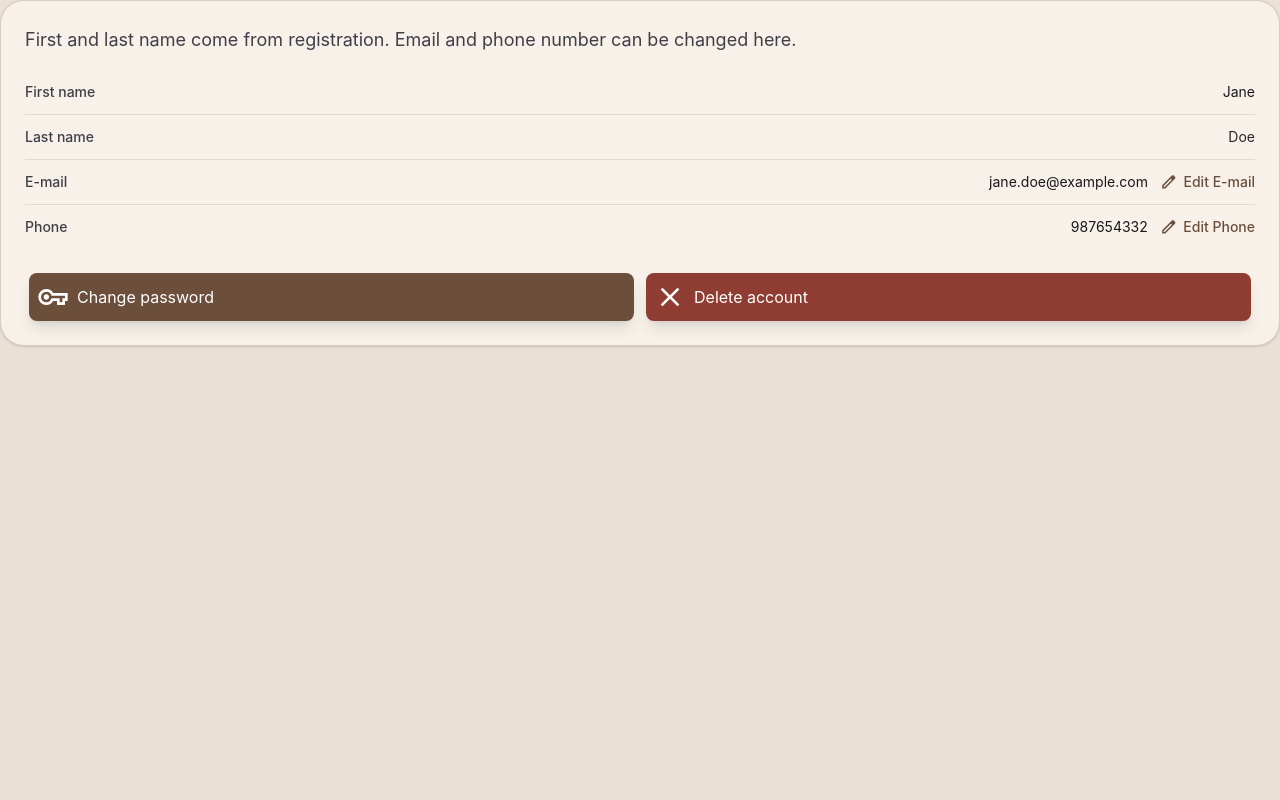
Test: Profile form › patches the phone number and confirms without signing out
The image size is (1280, 800).
Expected: the text "Jane" is shown, top-left (1223, 83), bottom-right (1255, 100)
Click the button "Edit Phone": (1207, 227) top-left (1160, 217), bottom-right (1255, 237)
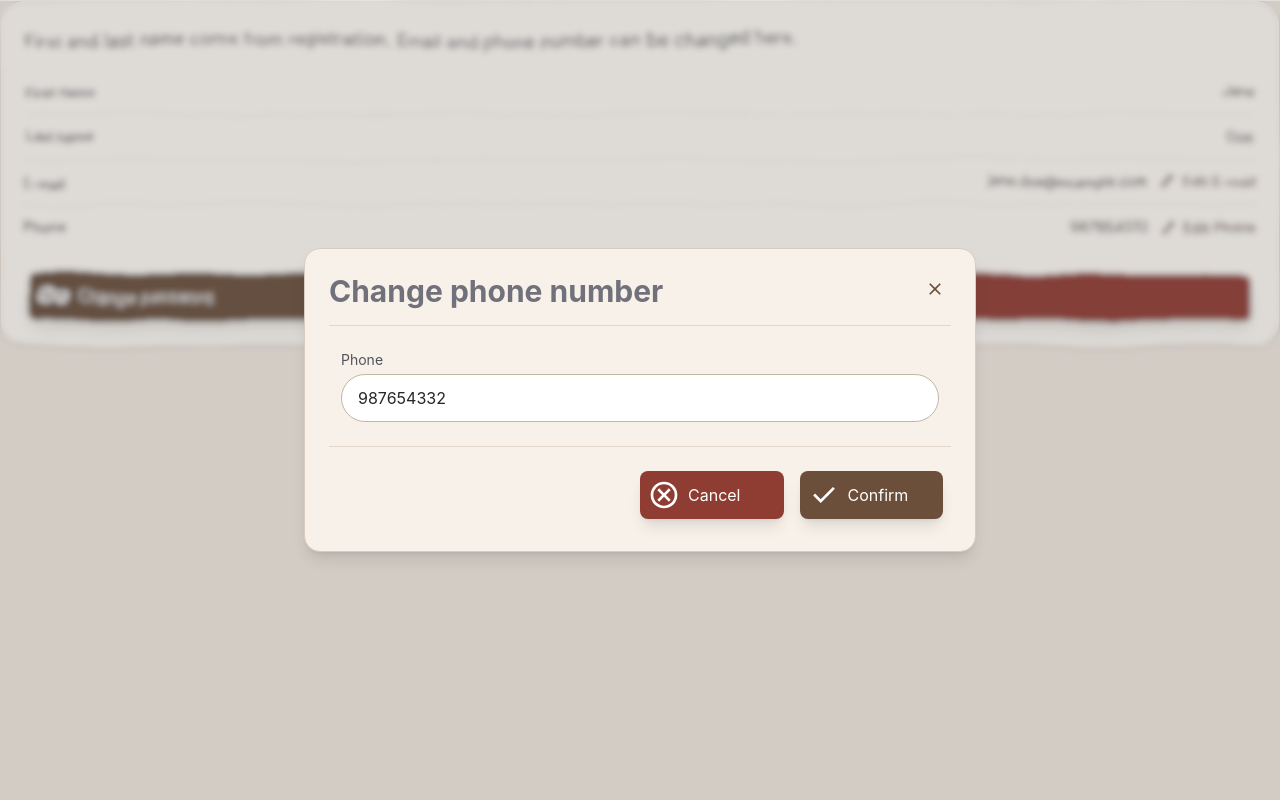
Replace the text in the field labelled "Phone" with "123456789": (640, 398) top-left (358, 386), bottom-right (922, 410)
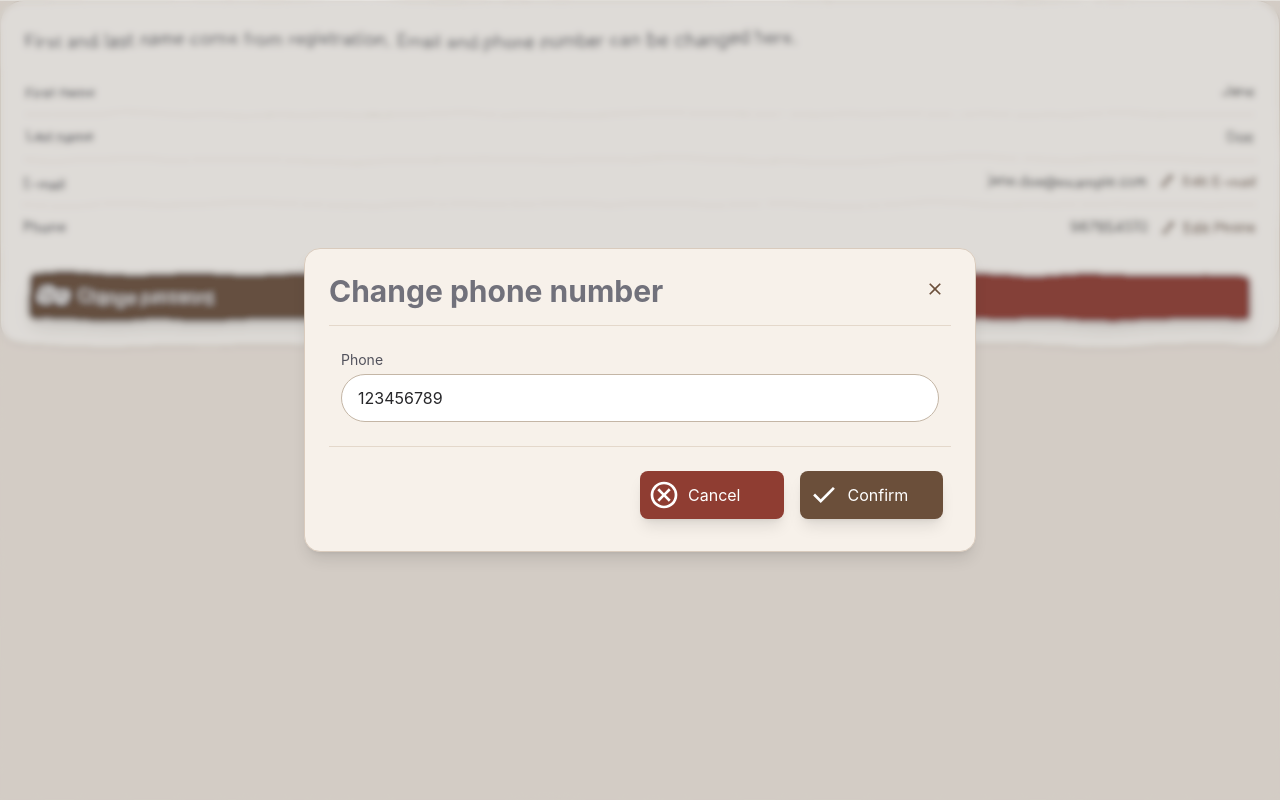
Click the button "Confirm": (871, 495) top-left (800, 471), bottom-right (943, 519)
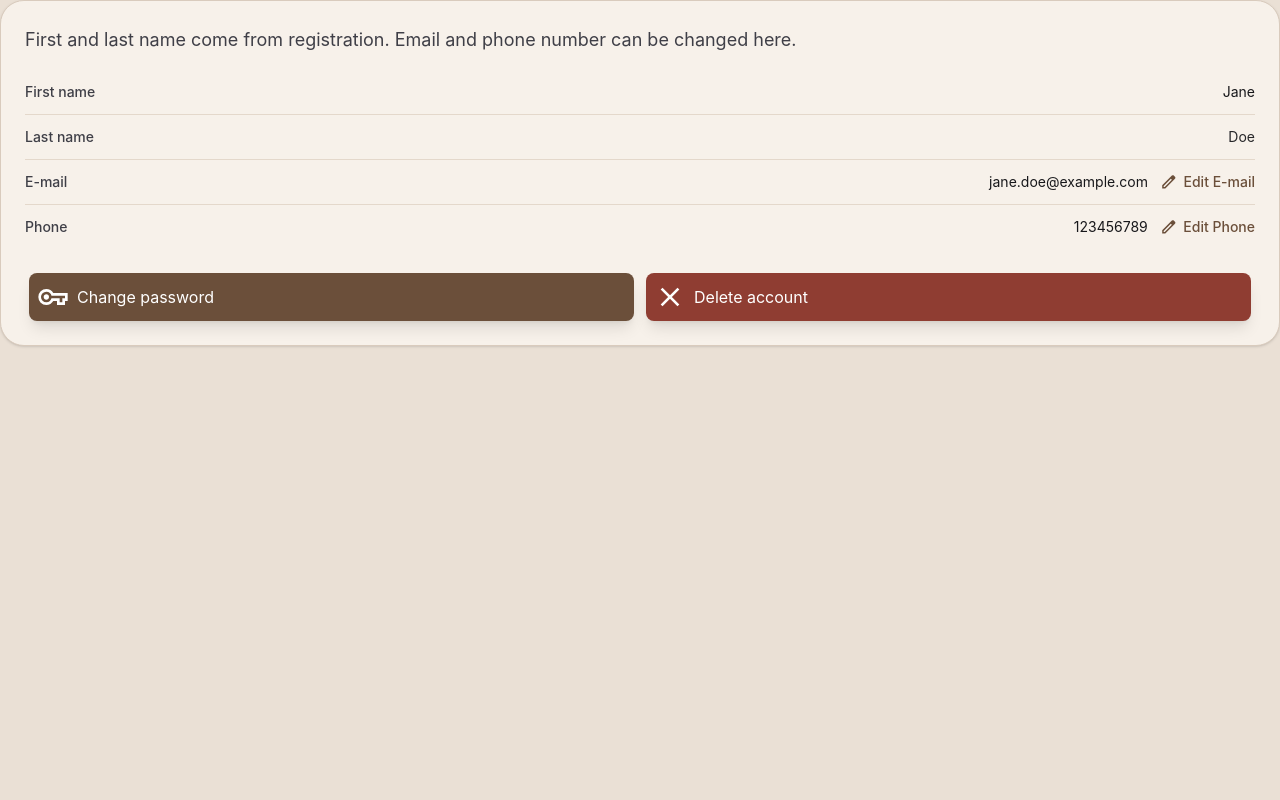
Expected: the dialog is gone
